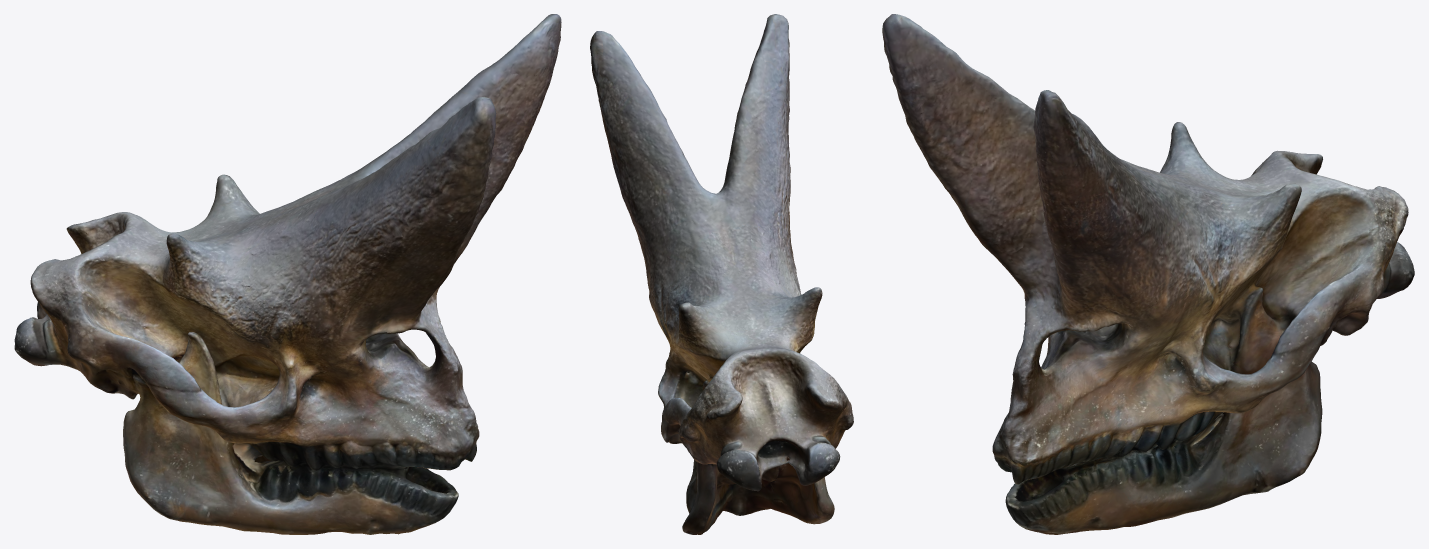
3 renders of one model, left to right at view 1: azimuth 30°, elevation 25°; view 2: azimuth 150°, elevation 25°; view 3: azimuth 270°, elevation 25°, orthographic. The views are drawn at different scales.
Parts seen in each view (by area): view 1: textured_output_0; view 2: textured_output_0; view 3: textured_output_0.
Part boxes in pixels (x1,y1,x2,y2): textured_output_0: (14, 14, 561, 534); textured_output_0: (590, 14, 853, 534); textured_output_0: (882, 14, 1414, 534).
Bounding box in the file's own units: 0.7812 × 0.8846 × 0.8001.
Materials: 1 (1 with a texture image).
